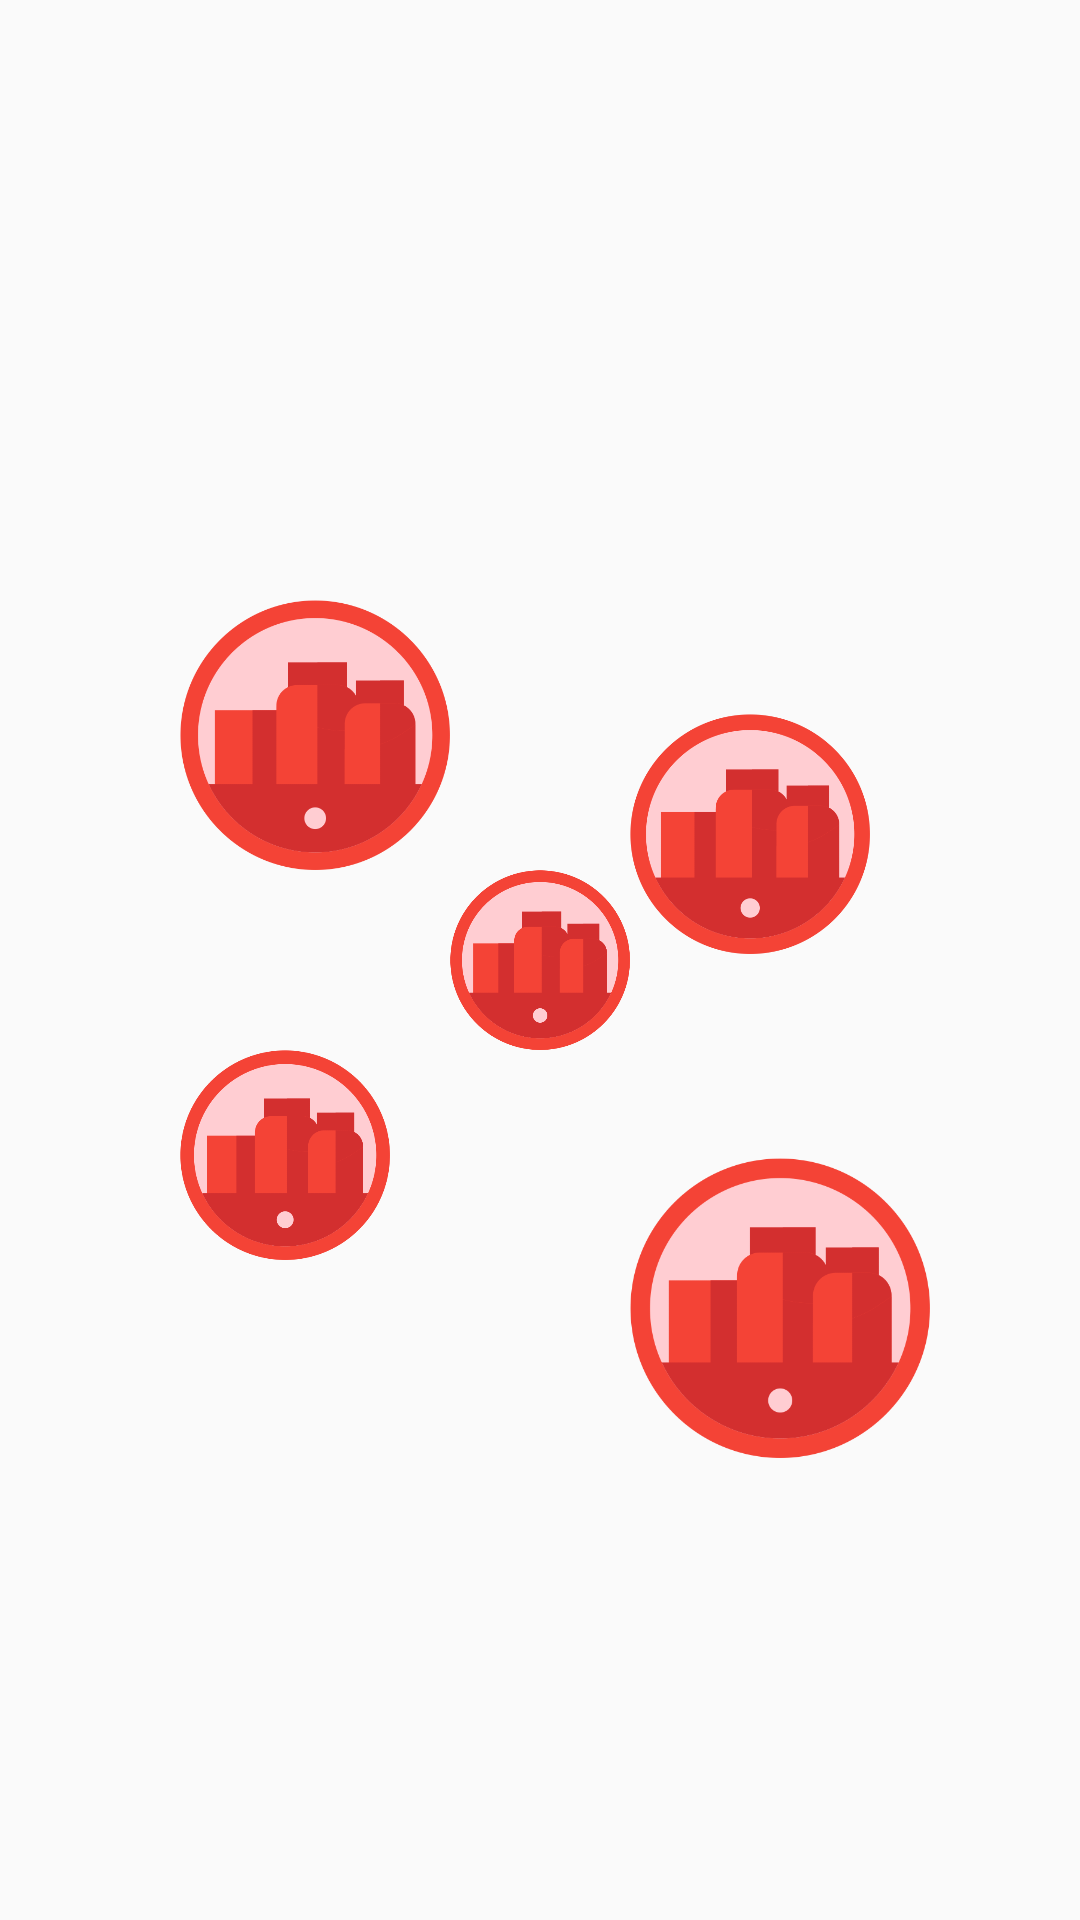

Point at icon controls on the screen. Image size 1080px x 1920px, points as (x=x, y=y).
stoku circle: (x=315, y=735), (x=750, y=834), (x=540, y=960), (x=285, y=1155), (x=780, y=1308)
